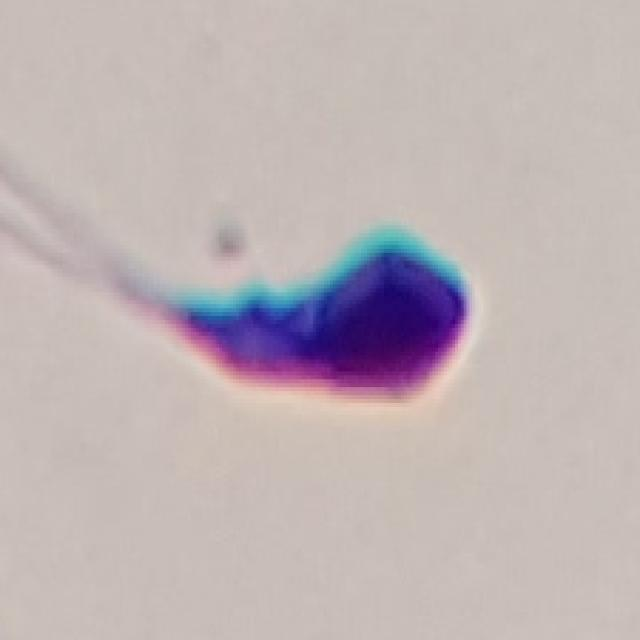abnormal sperm: (52, 219, 480, 418)
